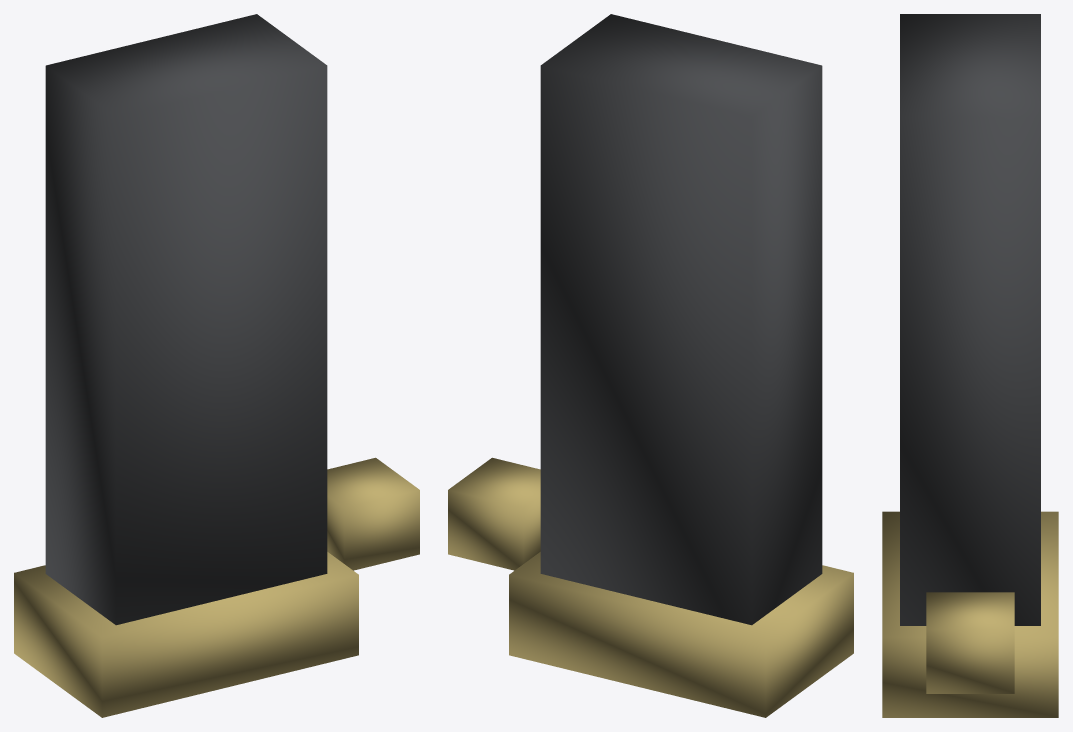
File: dock_bumper_14.glb
The picture shows the model from 3 angles, left to right: view 1: azimuth 30°, elevation 25°; view 2: azimuth 150°, elevation 25°; view 3: azimuth 270°, elevation 25°; orthographic projection.
Visible parts, largest first — view 1: world; view 2: world; view 3: world.
Boxes of the visible parts, x1,y1,x2,y2 form: world: [14, 14, 419, 717]; world: [448, 14, 853, 717]; world: [882, 14, 1058, 717].
Bounding box in the file's own units: 0.432 × 0.7154 × 0.194.
